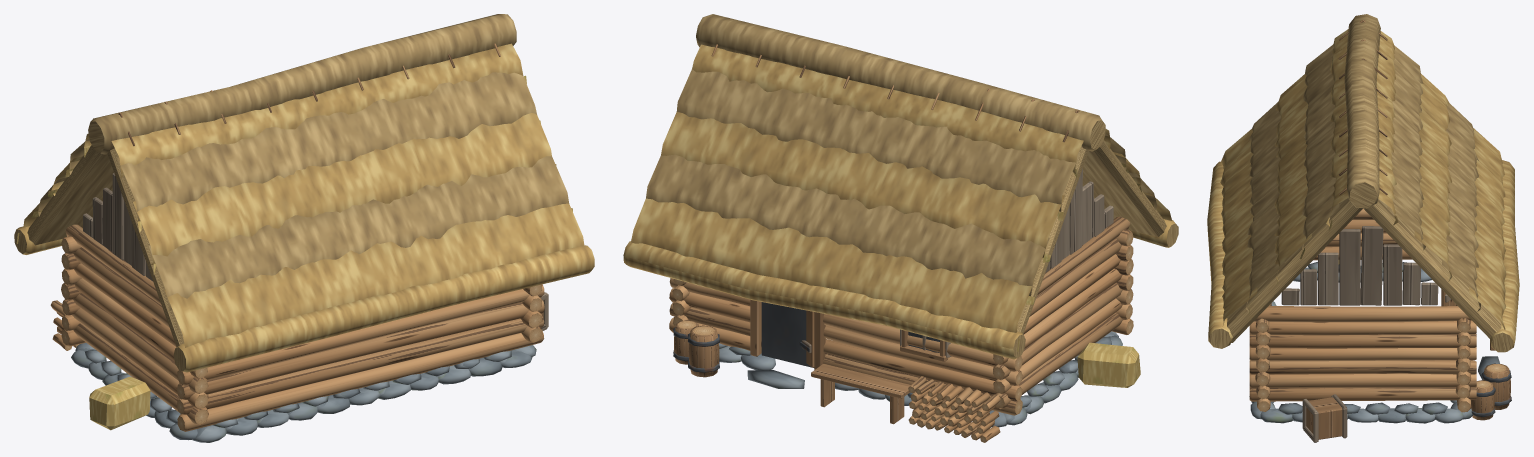
Rendered from bw_longhouse.fbx.
3 renders of one model, left to right at view 1: azimuth 30°, elevation 25°; view 2: azimuth 150°, elevation 25°; view 3: azimuth 270°, elevation 25°, orthographic. The views are drawn at different scales.
Parts seen in each view (by area): view 1: bw_longhouse; view 2: bw_longhouse; view 3: bw_longhouse.
Part boxes in pixels (x1,y1,x2,y2): bw_longhouse: [14, 14, 594, 442]; bw_longhouse: [623, 14, 1178, 442]; bw_longhouse: [1207, 14, 1519, 442].
Bounding box in the file's own units: 4.69 × 2.99 × 3.27.
